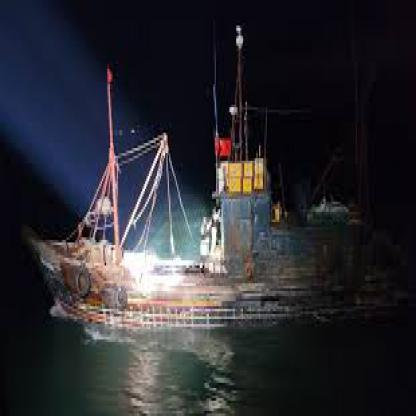fish-b: (24, 20, 383, 337)
